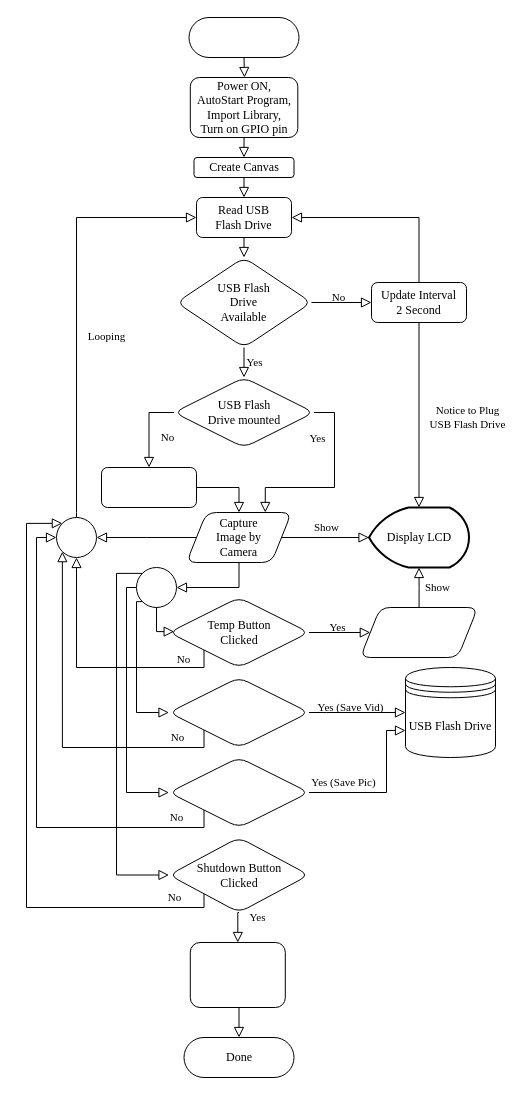
This 522x1095 diagram has some shape labels left out. The shapes that lost their labels are listed below. From the top down, each one's centre as x and y in pixels, then its label:
[243,37]: Start
[148,487]: Mount USB Flash Drive
[418,632]: Get Temp Value From GPIO Sensor
[238,712]: Record Button Clicked
[238,792]: Capture Button Clicked
[237,975]: Unmount USB, System Shutdown, Power Off
